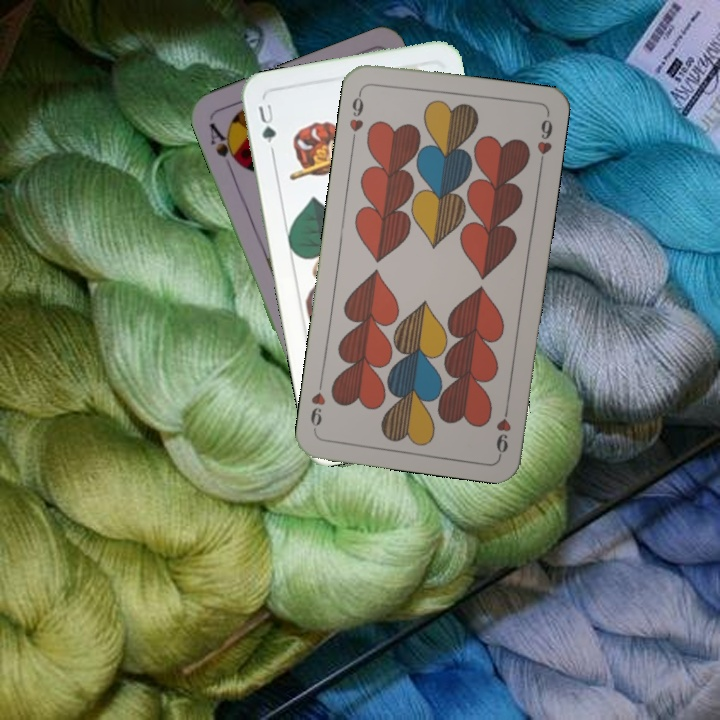GU: (254, 99, 279, 155)
H9: (345, 86, 367, 145), (492, 398, 514, 457)
SA: (205, 118, 244, 173)
